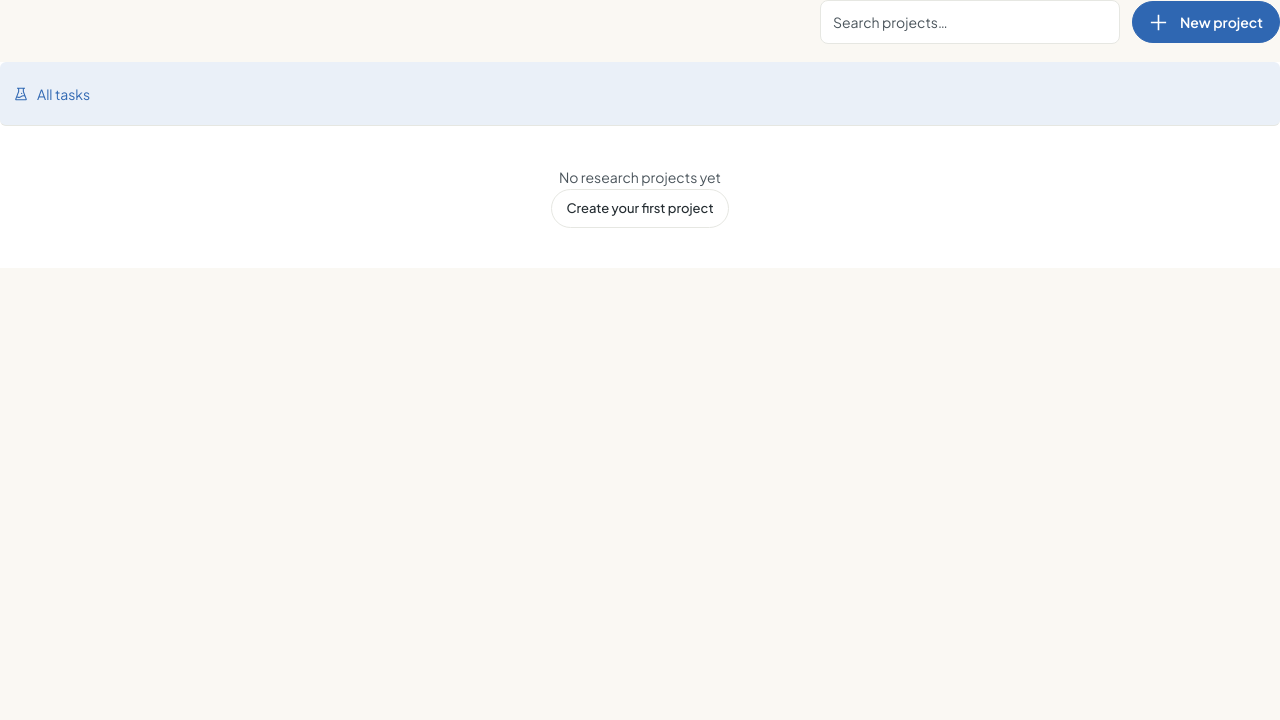
Test: keeps creation out of the list and only creates after an explicit valid submission
Expected: the field labelled "Project name" is not shown
Click the button "New project" at (1206, 22), box [1132,1,1279,43]
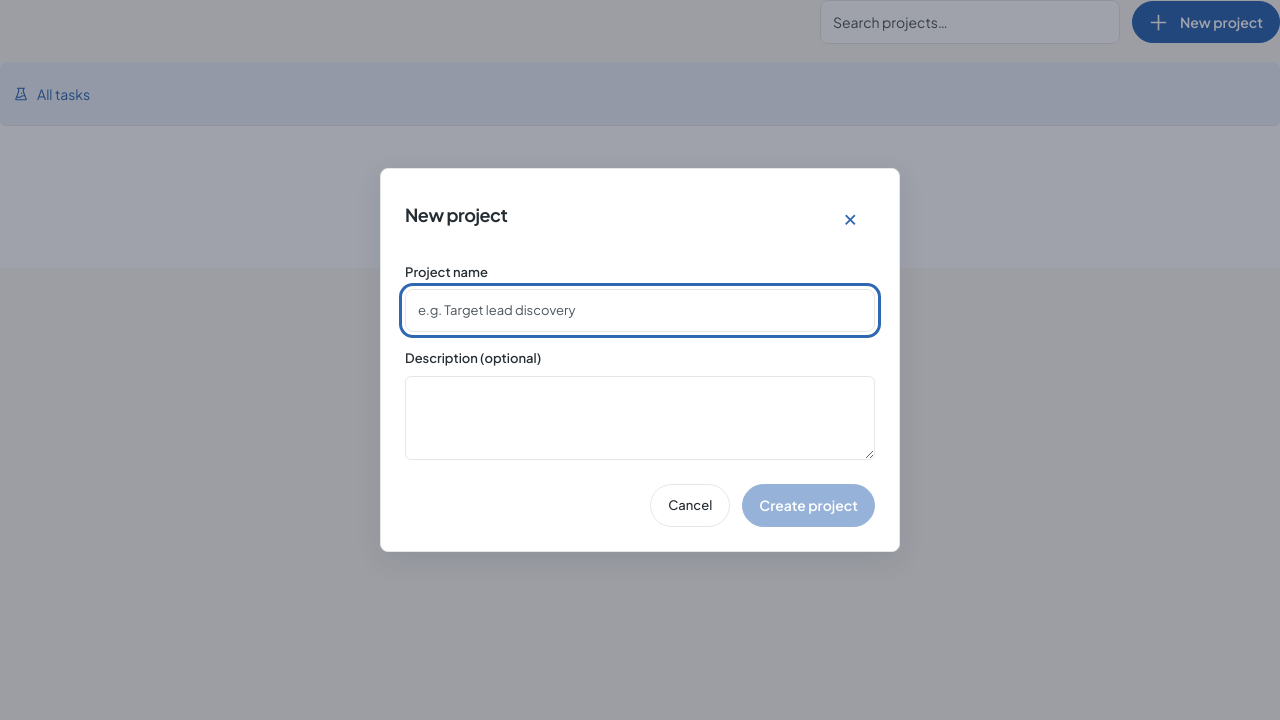
Result: the dialog is shown at [380,168,900,552]
Result: the button "Create project" is disabled at [742,484,875,527]
Type "BRD4" into the field labelled "Project name" at (640, 311), box [405,289,875,332]
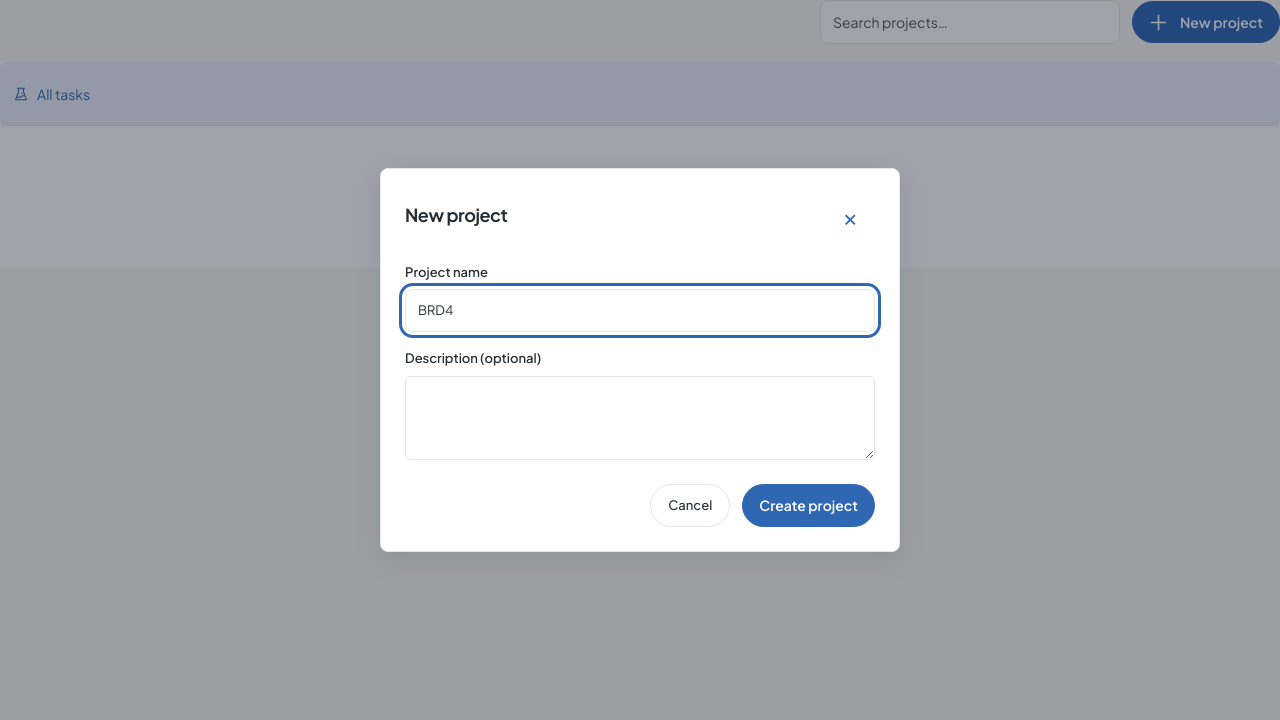
Type "early leads" into the text box labelled "Description (optional)" at (640, 418), box [405,376,875,460]
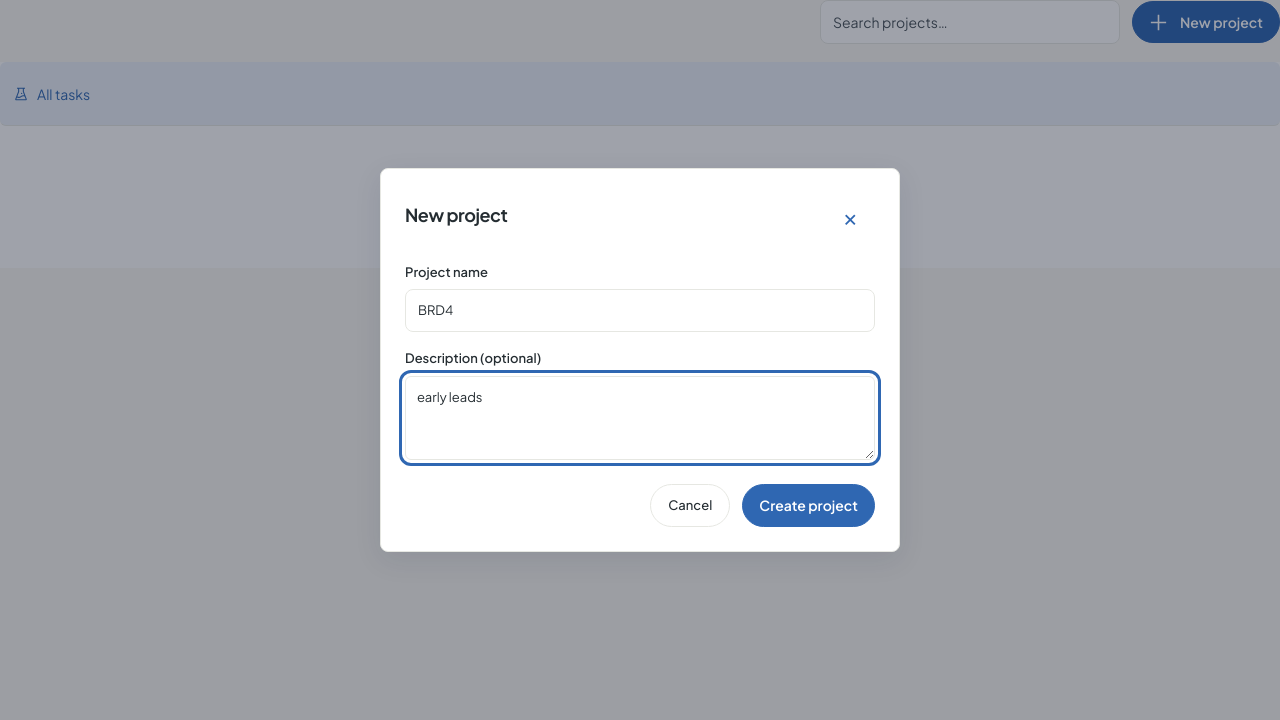
Click the button "Create project" at (809, 506), box [742,484,875,527]
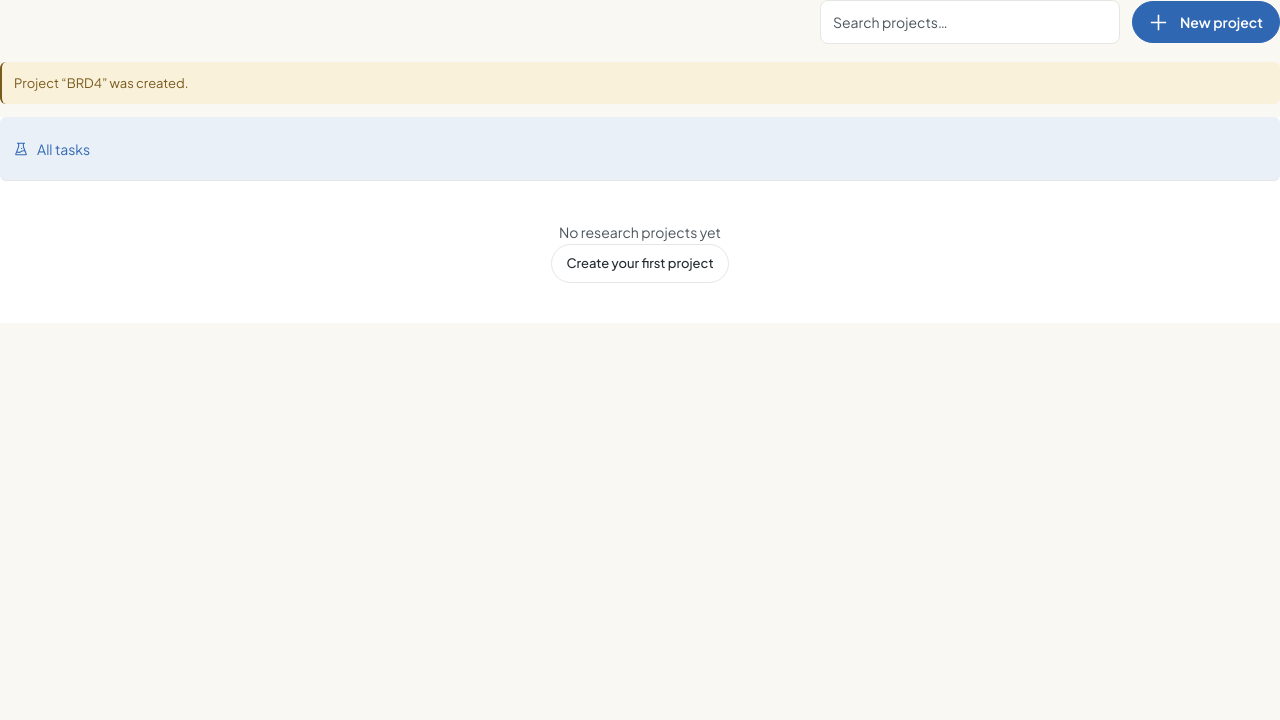
Result: the dialog is gone
